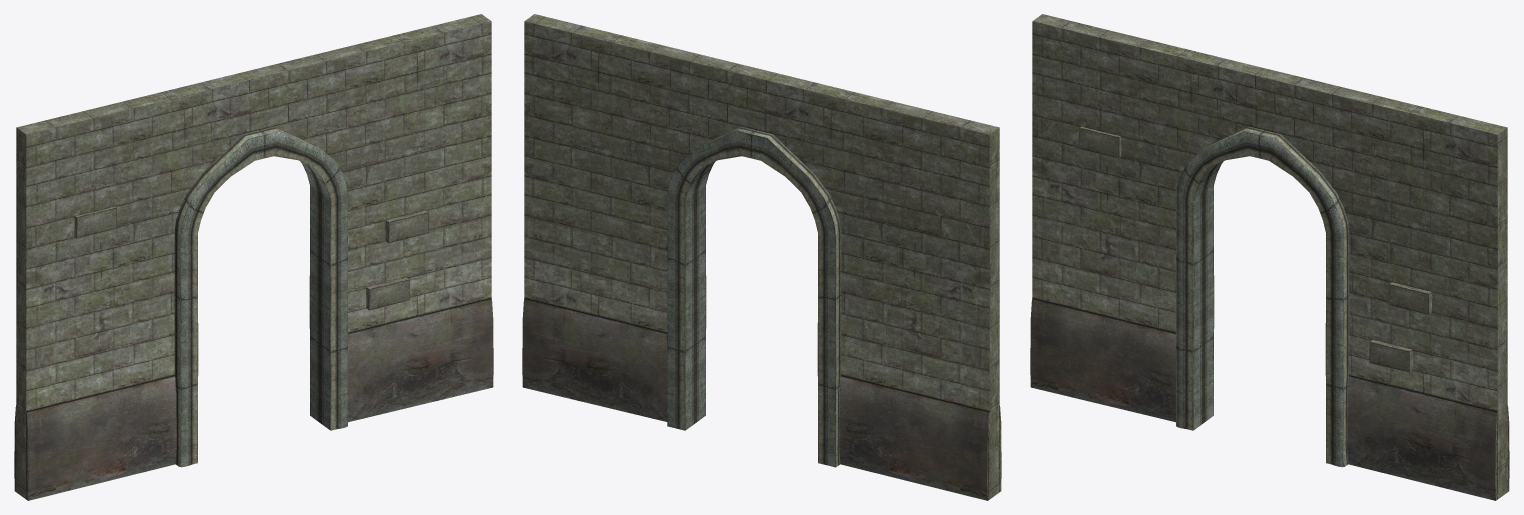
Rendered from entryway.fbx.
3 views of the same model, side by side, from view 1: azimuth 30°, elevation 25°; view 2: azimuth 150°, elevation 25°; view 3: azimuth 330°, elevation 25° (orthographic).
Parts seen in each view (by area): view 1: Mesh Object; view 2: Mesh Object; view 3: Mesh Object.
Part boxes in pixels (x1=…): Mesh Object: x1=14, y1=14, x2=493, y2=500; Mesh Object: x1=522, y1=14, x2=1001, y2=500; Mesh Object: x1=1030, y1=14, x2=1509, y2=500.
Size of the model in its own units: 4 by 3 by 0.3188.
